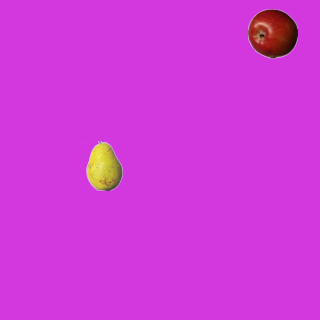Apple Braeburn: (247, 8, 297, 58)
Pear Monster: (79, 140, 129, 190)
